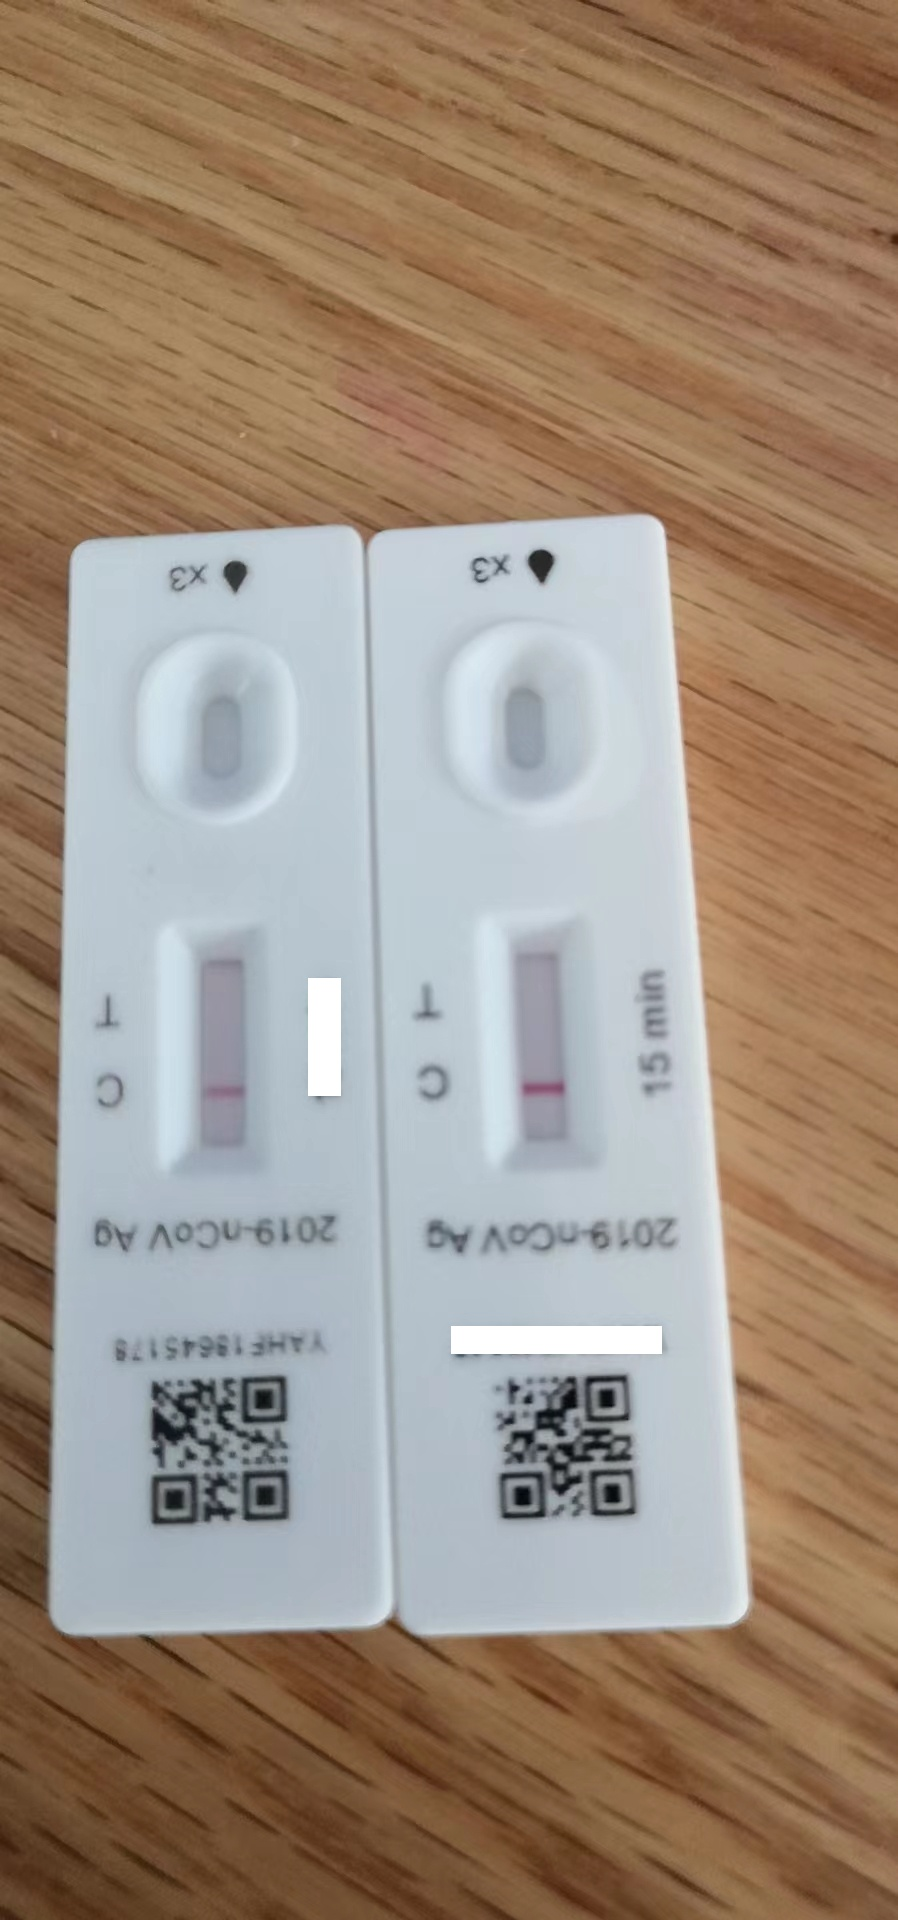negative: (483, 910, 588, 1176), (165, 920, 266, 1178)
